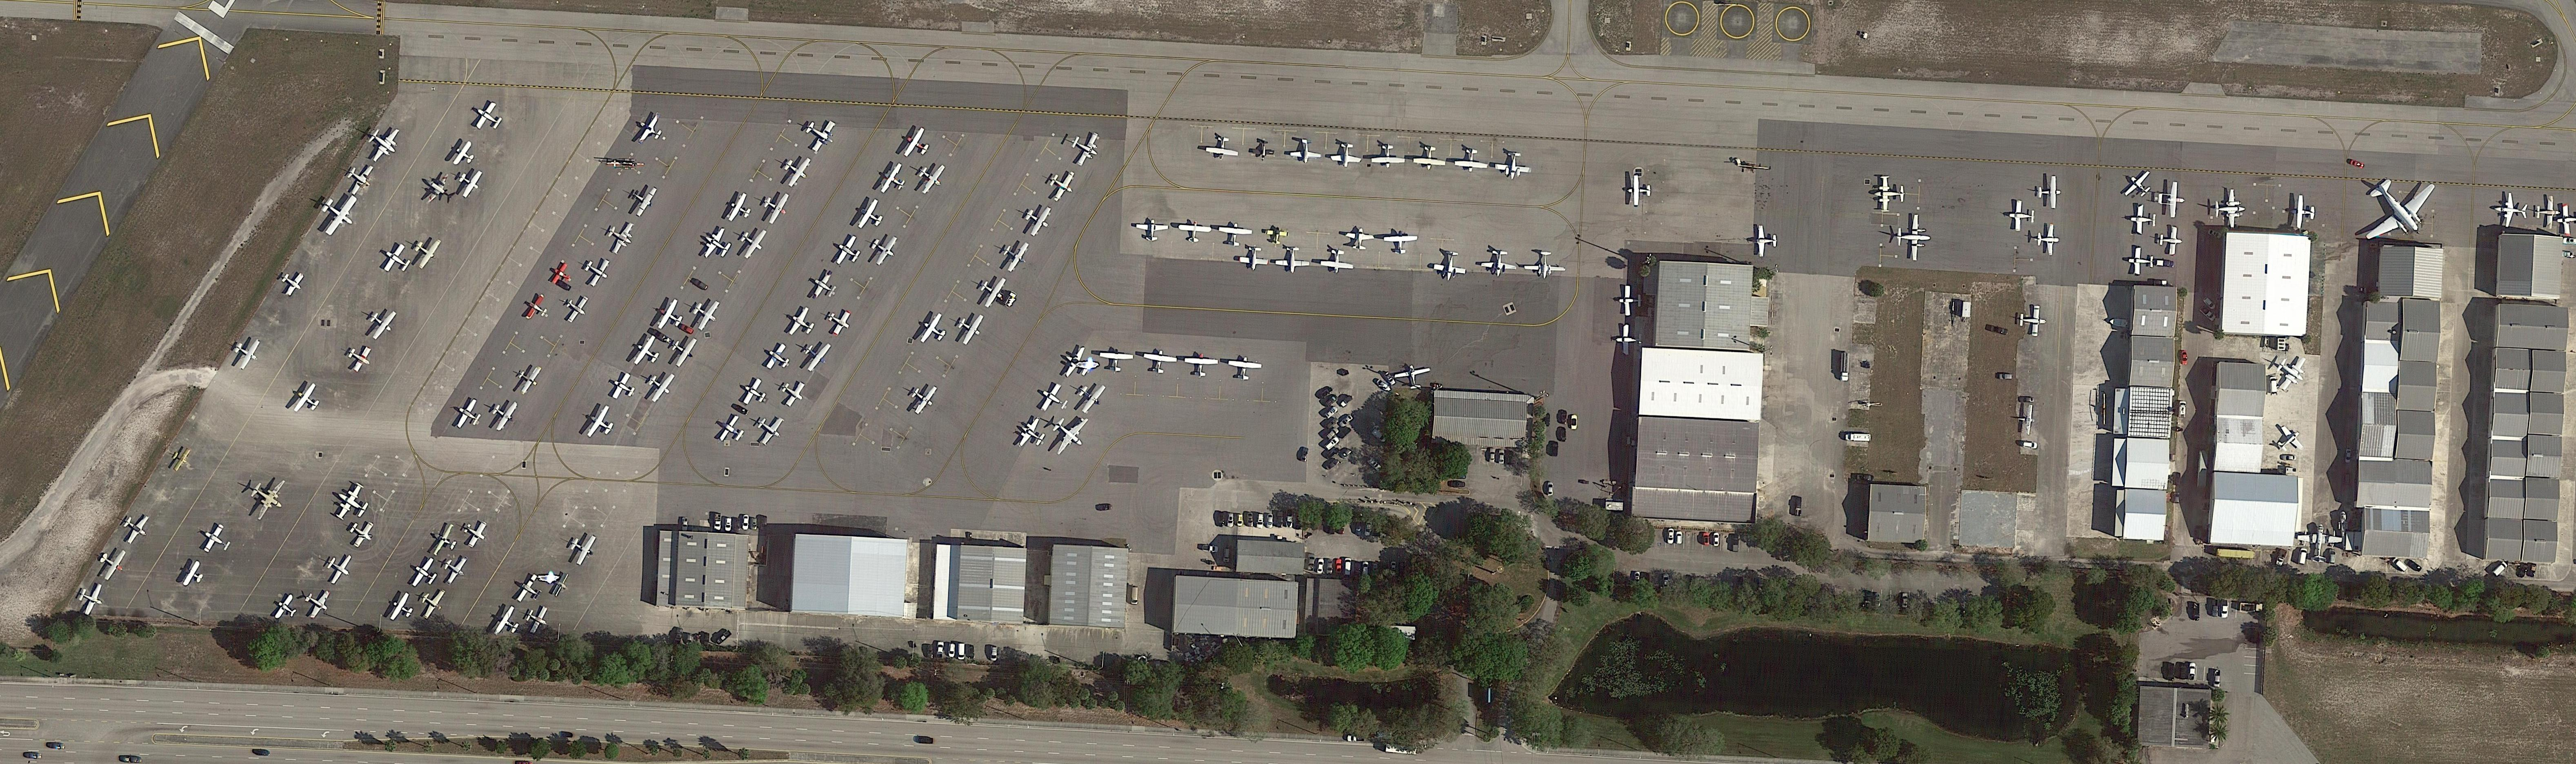plane: (2343, 156, 2449, 258), (1042, 404, 1097, 460), (310, 184, 365, 242), (241, 468, 294, 526), (327, 478, 375, 527), (416, 166, 462, 214), (360, 120, 406, 168), (2269, 348, 2313, 398), (2297, 522, 2344, 564), (1063, 127, 1107, 169), (798, 112, 841, 156), (113, 506, 154, 550), (639, 361, 680, 406), (697, 222, 738, 266), (1896, 214, 1932, 263), (1012, 412, 1053, 455), (287, 378, 327, 422), (582, 401, 621, 445), (600, 214, 639, 258), (973, 271, 1014, 312), (1017, 199, 1058, 240), (795, 335, 836, 376), (747, 407, 789, 449), (1058, 342, 1097, 384), (1071, 375, 1111, 417), (950, 306, 989, 348), (910, 156, 950, 199), (631, 108, 670, 151), (904, 376, 943, 417), (470, 97, 509, 138), (225, 332, 264, 373), (92, 542, 131, 583), (915, 309, 953, 352), (687, 291, 724, 334), (2270, 421, 2310, 460), (562, 526, 600, 567), (1035, 378, 1073, 419), (997, 235, 1035, 276), (199, 521, 237, 562), (363, 302, 401, 343), (340, 158, 378, 199), (864, 227, 902, 268), (629, 332, 667, 373), (651, 296, 688, 337), (733, 222, 770, 263), (777, 150, 815, 191), (425, 519, 462, 562), (299, 582, 335, 624), (1043, 166, 1081, 205), (378, 240, 416, 279), (664, 330, 701, 370), (900, 125, 936, 166), (485, 393, 521, 434), (452, 394, 488, 435), (320, 547, 356, 588), (853, 196, 889, 237), (757, 186, 793, 227), (624, 179, 660, 220), (2121, 166, 2159, 204), (490, 603, 526, 642), (407, 232, 444, 271), (876, 161, 912, 200), (807, 266, 843, 306), (511, 358, 545, 399), (72, 577, 107, 618), (557, 289, 593, 327), (715, 411, 751, 449), (407, 554, 442, 593), (831, 232, 866, 271), (785, 304, 820, 343), (2494, 191, 2528, 230), (2215, 187, 2246, 230), (1523, 248, 1566, 279), (514, 572, 549, 610), (437, 550, 471, 588), (343, 513, 378, 550), (414, 582, 447, 621), (1433, 248, 1469, 283), (342, 340, 376, 376), (580, 253, 614, 289), (762, 340, 797, 376), (775, 375, 810, 411), (738, 375, 772, 411), (453, 164, 486, 202), (724, 191, 757, 228), (821, 304, 856, 338), (608, 370, 642, 404), (276, 265, 309, 301), (1874, 174, 1906, 212), (2157, 181, 2187, 220), (1493, 150, 1533, 179), (1393, 363, 1434, 391), (388, 590, 417, 628), (1140, 347, 1178, 376), (1224, 355, 1263, 383), (1480, 248, 1520, 276), (522, 601, 554, 636), (460, 516, 491, 550), (2017, 304, 2049, 338), (522, 291, 554, 325), (271, 591, 302, 626), (177, 557, 209, 591), (1204, 135, 1242, 163), (448, 138, 480, 171), (1454, 146, 1490, 174), (1411, 145, 1449, 171), (1237, 245, 1272, 273), (1342, 225, 1377, 253), (2535, 196, 2563, 230), (1217, 222, 1253, 248), (1275, 246, 1311, 273), (1319, 248, 1355, 274), (547, 260, 577, 291), (2009, 200, 2037, 233), (2127, 245, 2155, 278), (1184, 352, 1219, 378), (2290, 196, 2316, 230), (1753, 223, 1779, 258), (1617, 324, 1643, 357), (1372, 143, 1405, 169), (1329, 141, 1362, 168), (1135, 217, 1170, 242), (2159, 223, 2183, 258), (1176, 220, 1212, 243), (166, 444, 194, 473), (2131, 204, 2157, 235), (2035, 223, 2060, 256), (1099, 348, 1134, 371), (1383, 232, 1418, 255), (1628, 176, 1653, 207), (1291, 138, 1322, 163), (2039, 176, 2062, 209), (2016, 404, 2039, 435), (1620, 284, 1643, 315), (1249, 138, 1276, 161), (1263, 225, 1290, 246)
ship: (2111, 317, 2127, 327)
